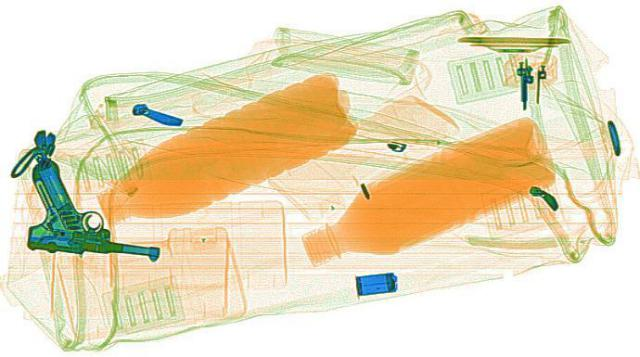Gun: (7, 153, 184, 258)
